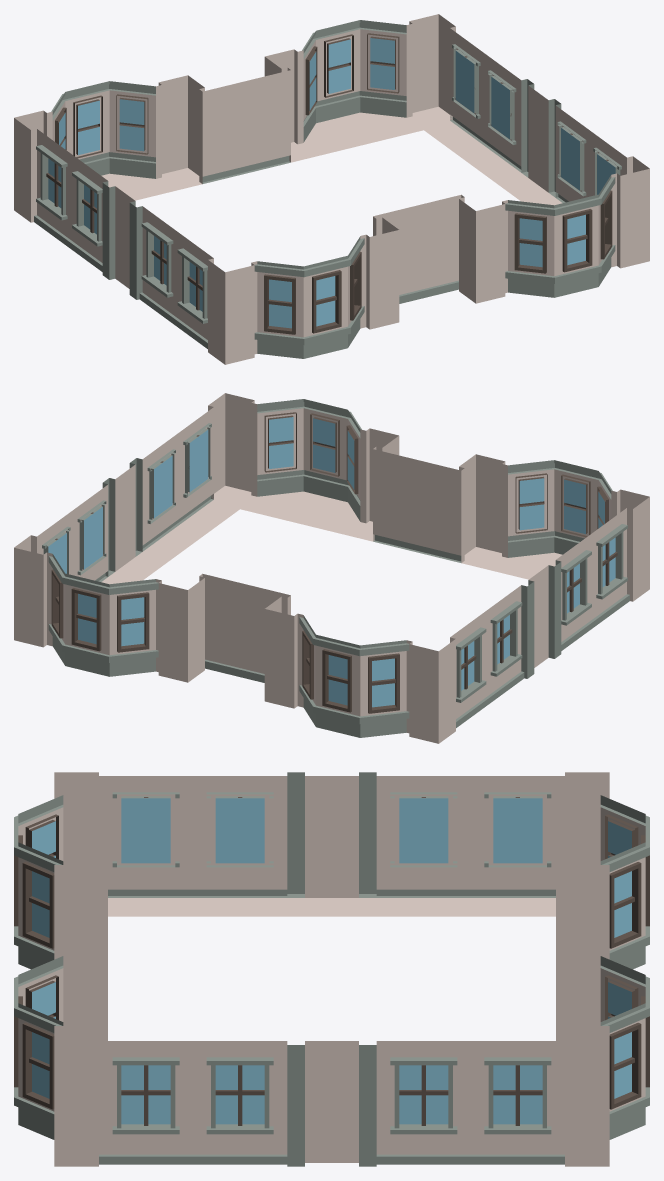
Rendered from modular2_building_midlayer.glb.
3 renders of one model, top to bottom at view 1: azimuth 30°, elevation 25°; view 2: azimuth 150°, elevation 25°; view 3: azimuth 270°, elevation 25°, orthographic. The views are drawn at different scales.
Visible parts, largest first — view 1: Floor; view 2: Floor; view 3: Floor.
Boxes of the visible parts, x1,y1,x2,y2 form: Floor: (14,14,649,364); Floor: (14,393,649,743); Floor: (14,772,649,1166).
Size of the model in its own units: 14.4 by 3 by 14.2.
